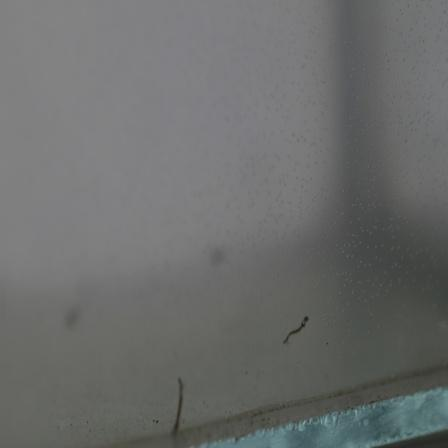Jentik-Nyamuk: (279, 312, 311, 348), (169, 373, 186, 437)
